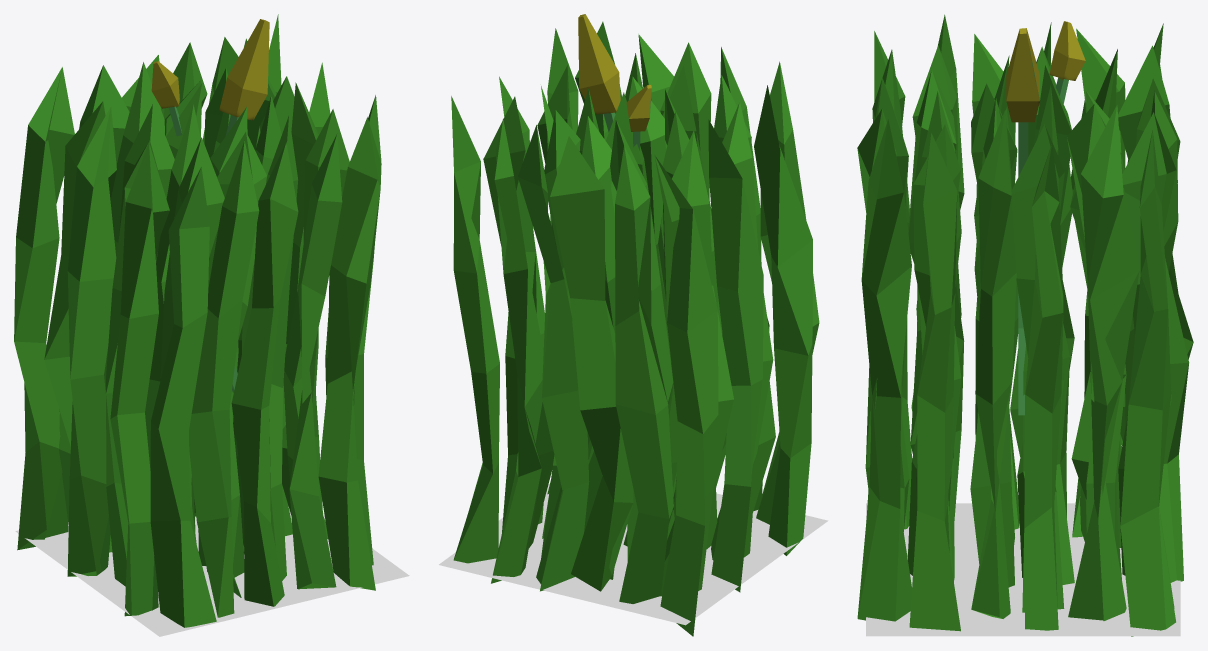
File: Padi1 revisi.fbx
3 renders of one model, left to right at view 1: azimuth 30°, elevation 25°; view 2: azimuth 150°, elevation 25°; view 3: azimuth 270°, elevation 25°, orthographic. The views are drawn at different scales.
Visible parts, largest first — view 1: Plane.008, kotak, Plane.005; view 2: Plane.008, kotak, Plane.005; view 3: Plane.008, kotak, Plane.005.
Part boxes in pixels (x1=…): Plane.008: x1=14, y1=14, x2=381, y2=627; kotak: x1=15, y1=507, x2=409, y2=636; Plane.005: x1=151, y1=19, x2=269, y2=392; Plane.008: x1=451, y1=21, x2=819, y2=636; kotak: x1=439, y1=483, x2=828, y2=625; Plane.005: x1=578, y1=14, x2=651, y2=150; Plane.008: x1=857, y1=14, x2=1193, y2=636; kotak: x1=866, y1=503, x2=1180, y2=636; Plane.005: x1=1006, y1=21, x2=1085, y2=415.
Bounding box in the file's own units: 214 × 413 × 214.
